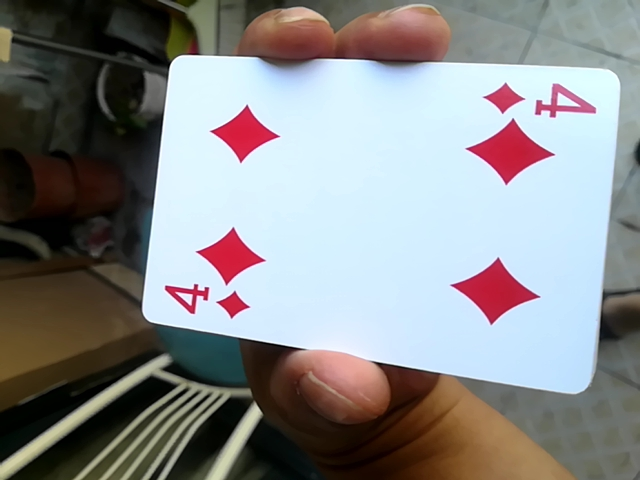fk 4: (136, 54, 631, 381)
